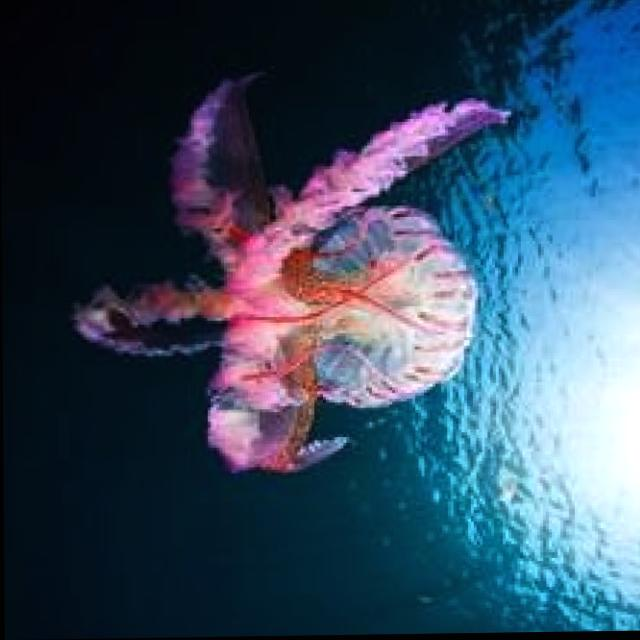Box-jellyfish: (69, 63, 519, 478)
